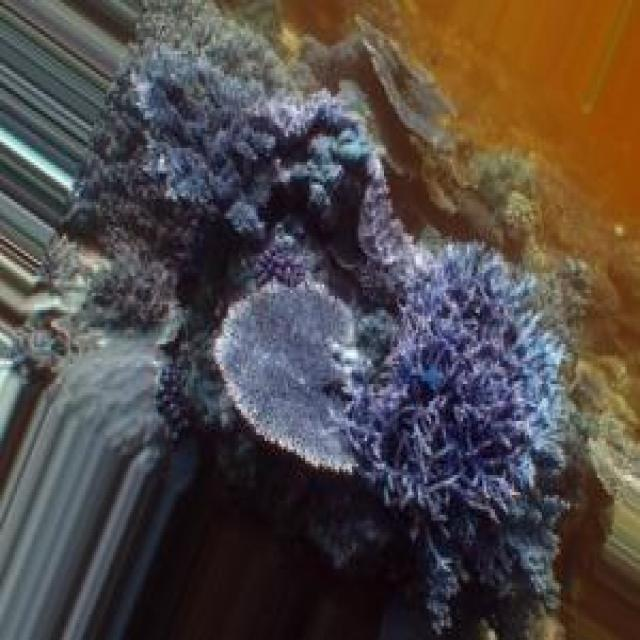Healthy: (59, 1, 613, 640), (362, 240, 571, 640), (216, 285, 362, 473)
